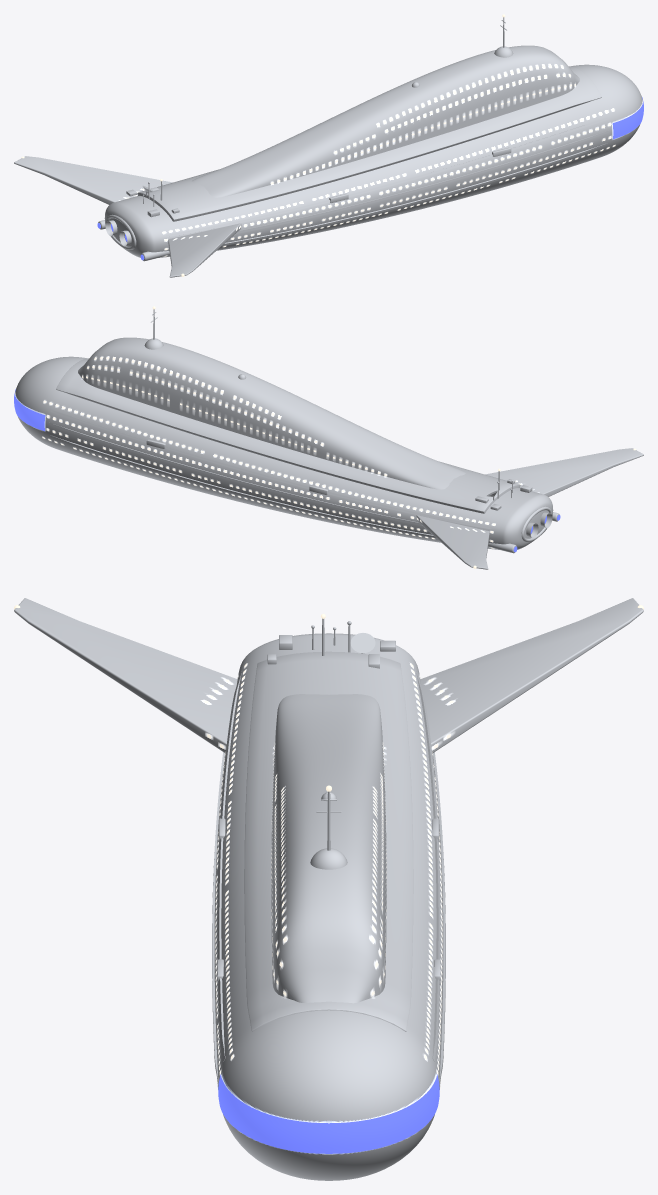
The model's file is axiom.glb.
3 views of the same model, one above another, from view 1: azimuth 30°, elevation 25°; view 2: azimuth 150°, elevation 25°; view 3: azimuth 270°, elevation 25° (orthographic). The views are drawn at different scales.
Visible parts, largest first — view 1: Hull, Windows, BowBand; view 2: Hull, Windows, BowBand; view 3: Hull, BowBand, Windows.
Part boxes in pixels (bbox=[...]): Hull: bbox=[14, 17, 642, 277]; Windows: bbox=[126, 65, 615, 256]; BowBand: bbox=[612, 97, 643, 139]; Hull: bbox=[15, 309, 643, 569]; Windows: bbox=[42, 357, 521, 548]; BowBand: bbox=[14, 389, 45, 431]; Hull: bbox=[14, 598, 643, 1180]; BowBand: bbox=[218, 1074, 439, 1153]; Windows: bbox=[204, 663, 453, 1127].
Bounding box in the file's own units: 10.81 × 3.08 × 5.55.
